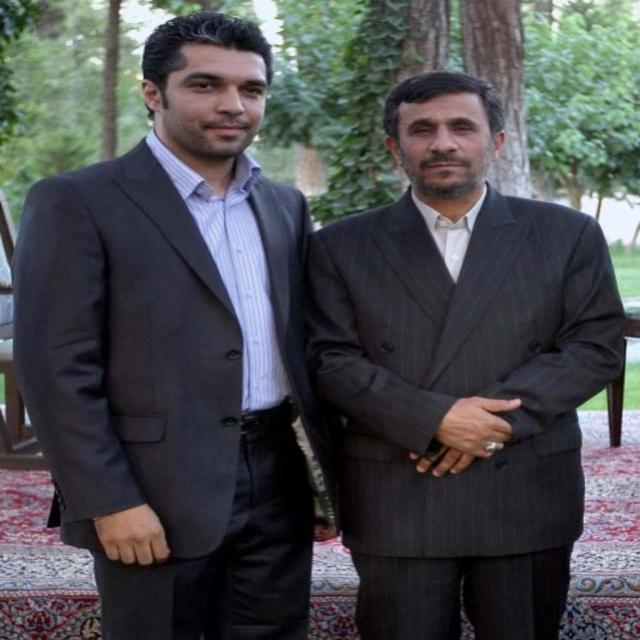Face: (172, 33, 289, 161), (390, 94, 503, 198)
